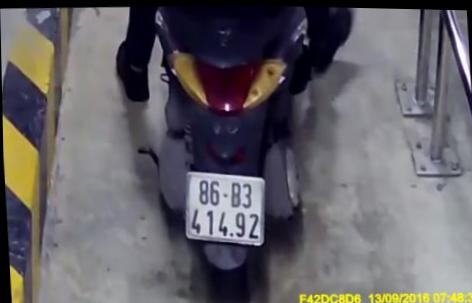LP: (178, 167, 269, 249)
